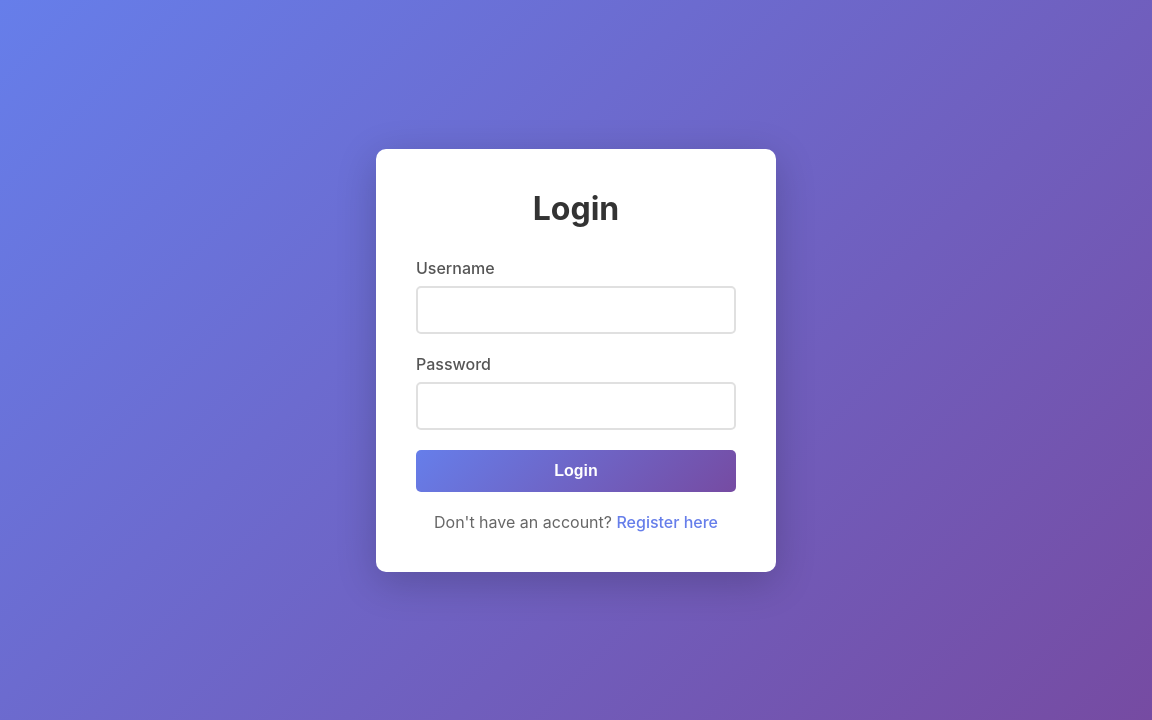
Test: Login Component › displays error message on login failure
Type "testuser" into the field with test id "username-input". click: (576, 310)
box: [416,286,736,334]
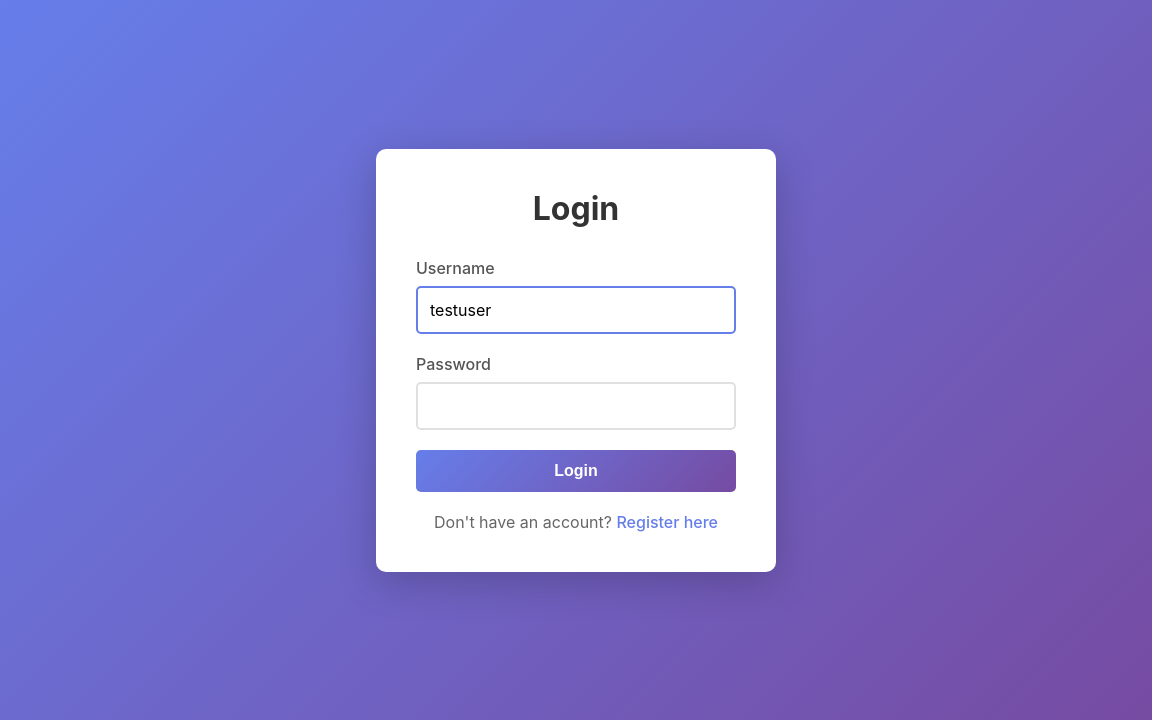
Type "wrongpassword" into the password field with test id "password-input". click: (576, 406)
box: [416,382,736,430]
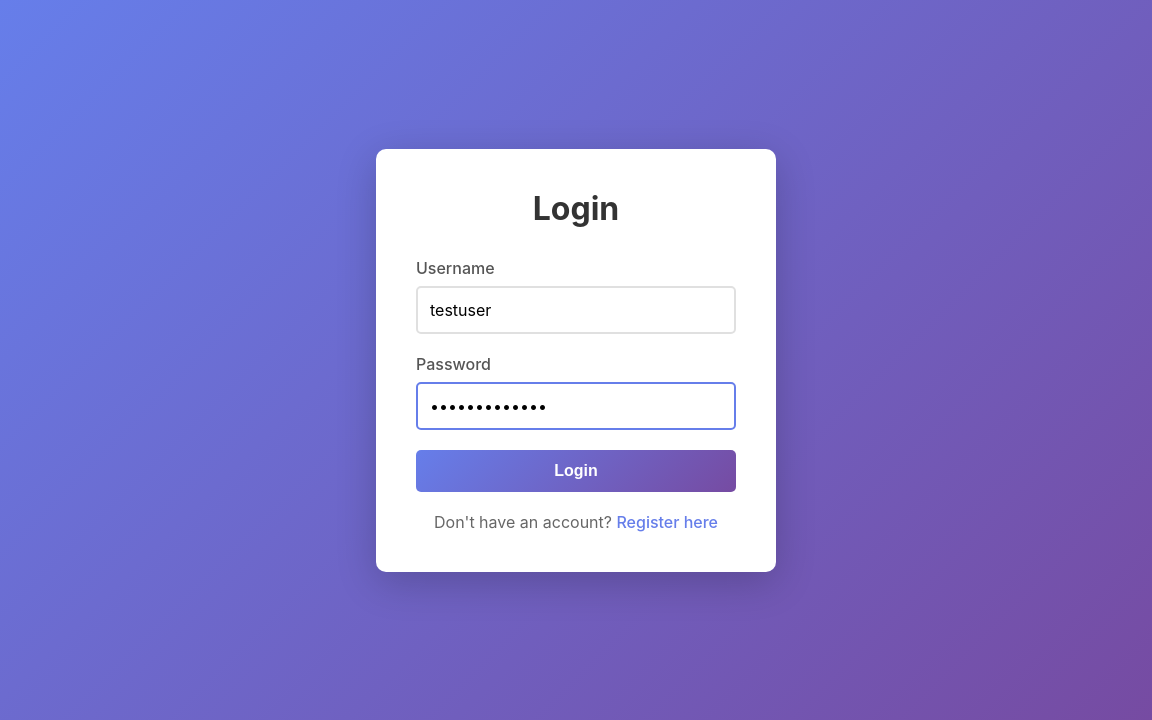
Click the button with test id "login-button". click: (576, 470)
box: [416,450,736,492]
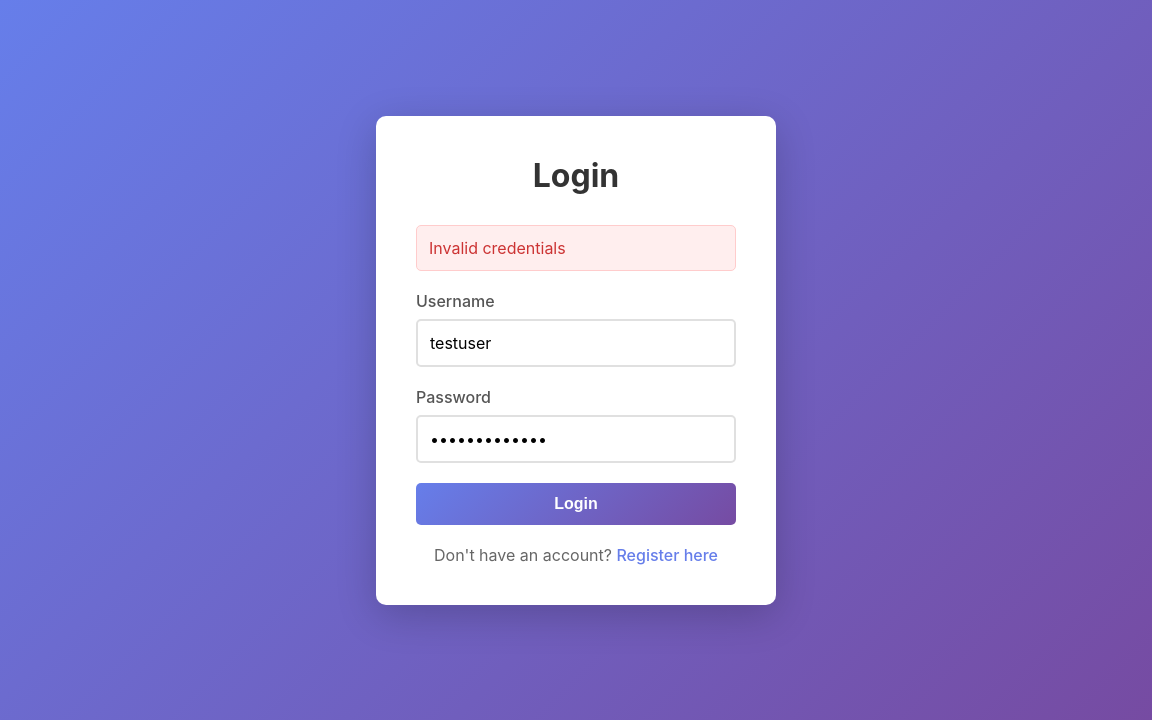
Check: the text "Invalid credentials" is shown, box [416,224,736,270]
